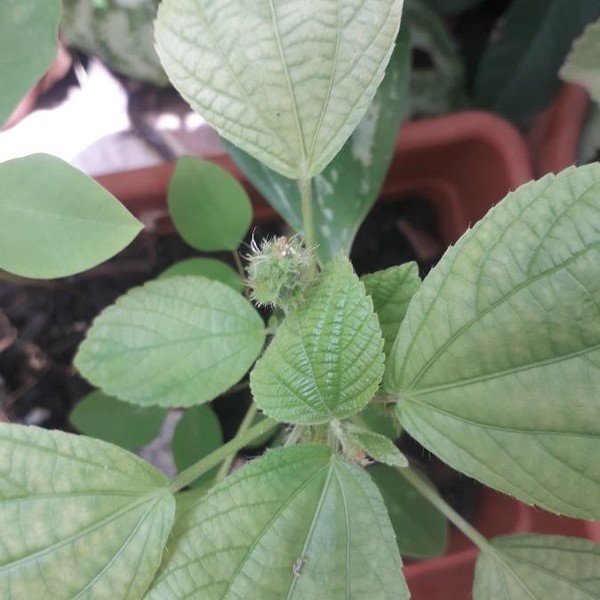obstacle: (50, 61, 579, 584)
